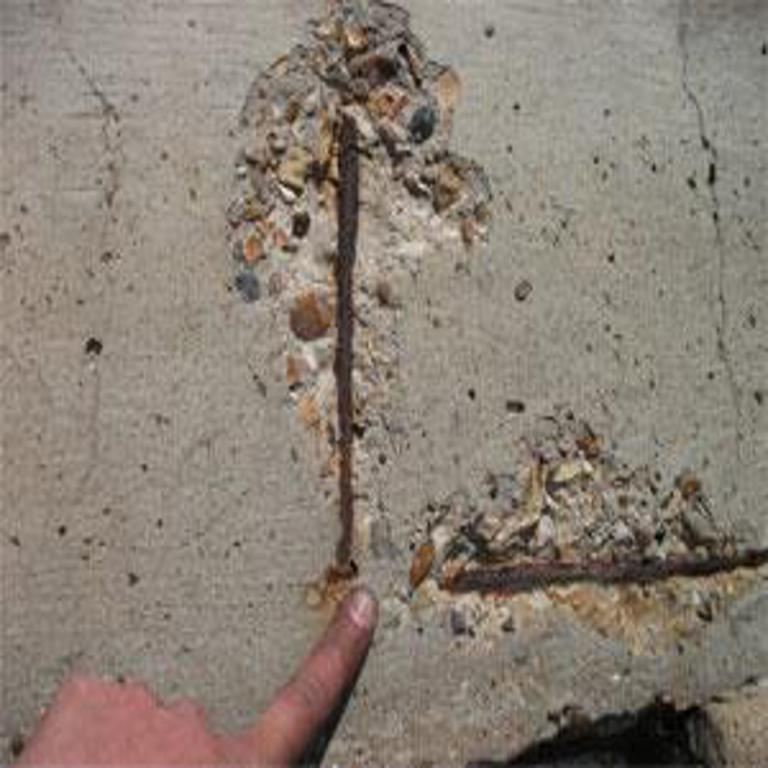exposed_rebar: (444, 548, 768, 592), (333, 114, 358, 566)
spalling: (228, 0, 492, 576), (400, 411, 768, 655)
